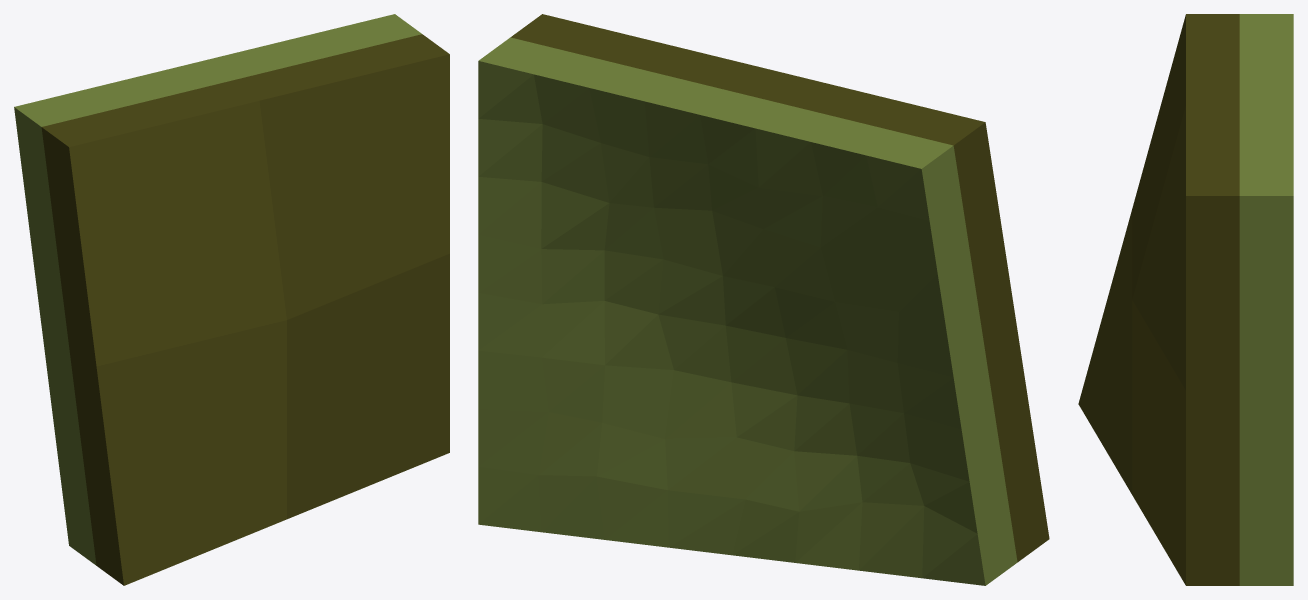
The model's file is Slant_Down_Corner.fbx.
3 views of the same model, side by side, from view 1: azimuth 30°, elevation 25°; view 2: azimuth 150°, elevation 25°; view 3: azimuth 270°, elevation 25° (orthographic). The views are drawn at different scales.
Visible parts, largest first — view 1: Slant_Down_Corner; view 2: Slant_Down_Corner; view 3: Slant_Down_Corner.
Part boxes in pixels (x1,y1,x2,y2): Slant_Down_Corner: (14,14,449,585); Slant_Down_Corner: (478,14,1049,585); Slant_Down_Corner: (1078,14,1293,585).
Bounding box in the file's own units: 400 × 400 × 200.
